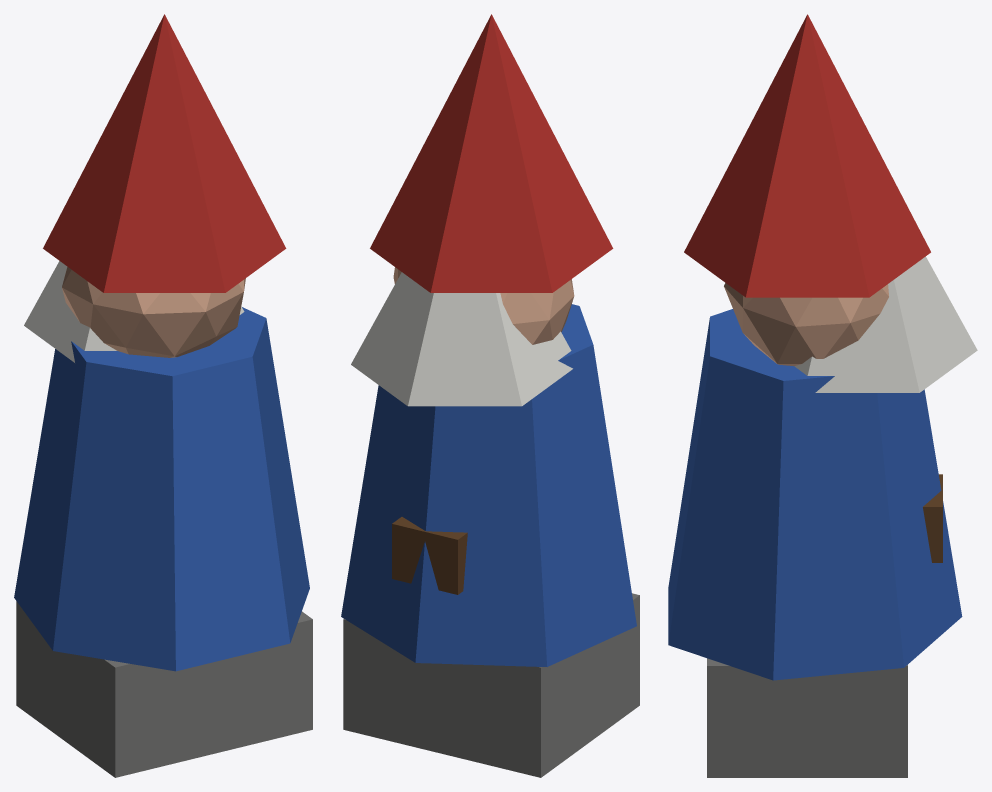
File: Scatter_GardenGnome.fbx
3 renders of one model, left to right at view 1: azimuth 30°, elevation 25°; view 2: azimuth 150°, elevation 25°; view 3: azimuth 270°, elevation 25°, orthographic.
Visible parts, largest first — view 1: GardenGnome; view 2: GardenGnome; view 3: GardenGnome.
Part boxes in pixels (bbox=[...]): GardenGnome: bbox=[14, 14, 312, 777]; GardenGnome: bbox=[341, 14, 639, 777]; GardenGnome: bbox=[668, 14, 977, 777].
Size of the model in its own units: 1.95 by 5.1 by 2.
